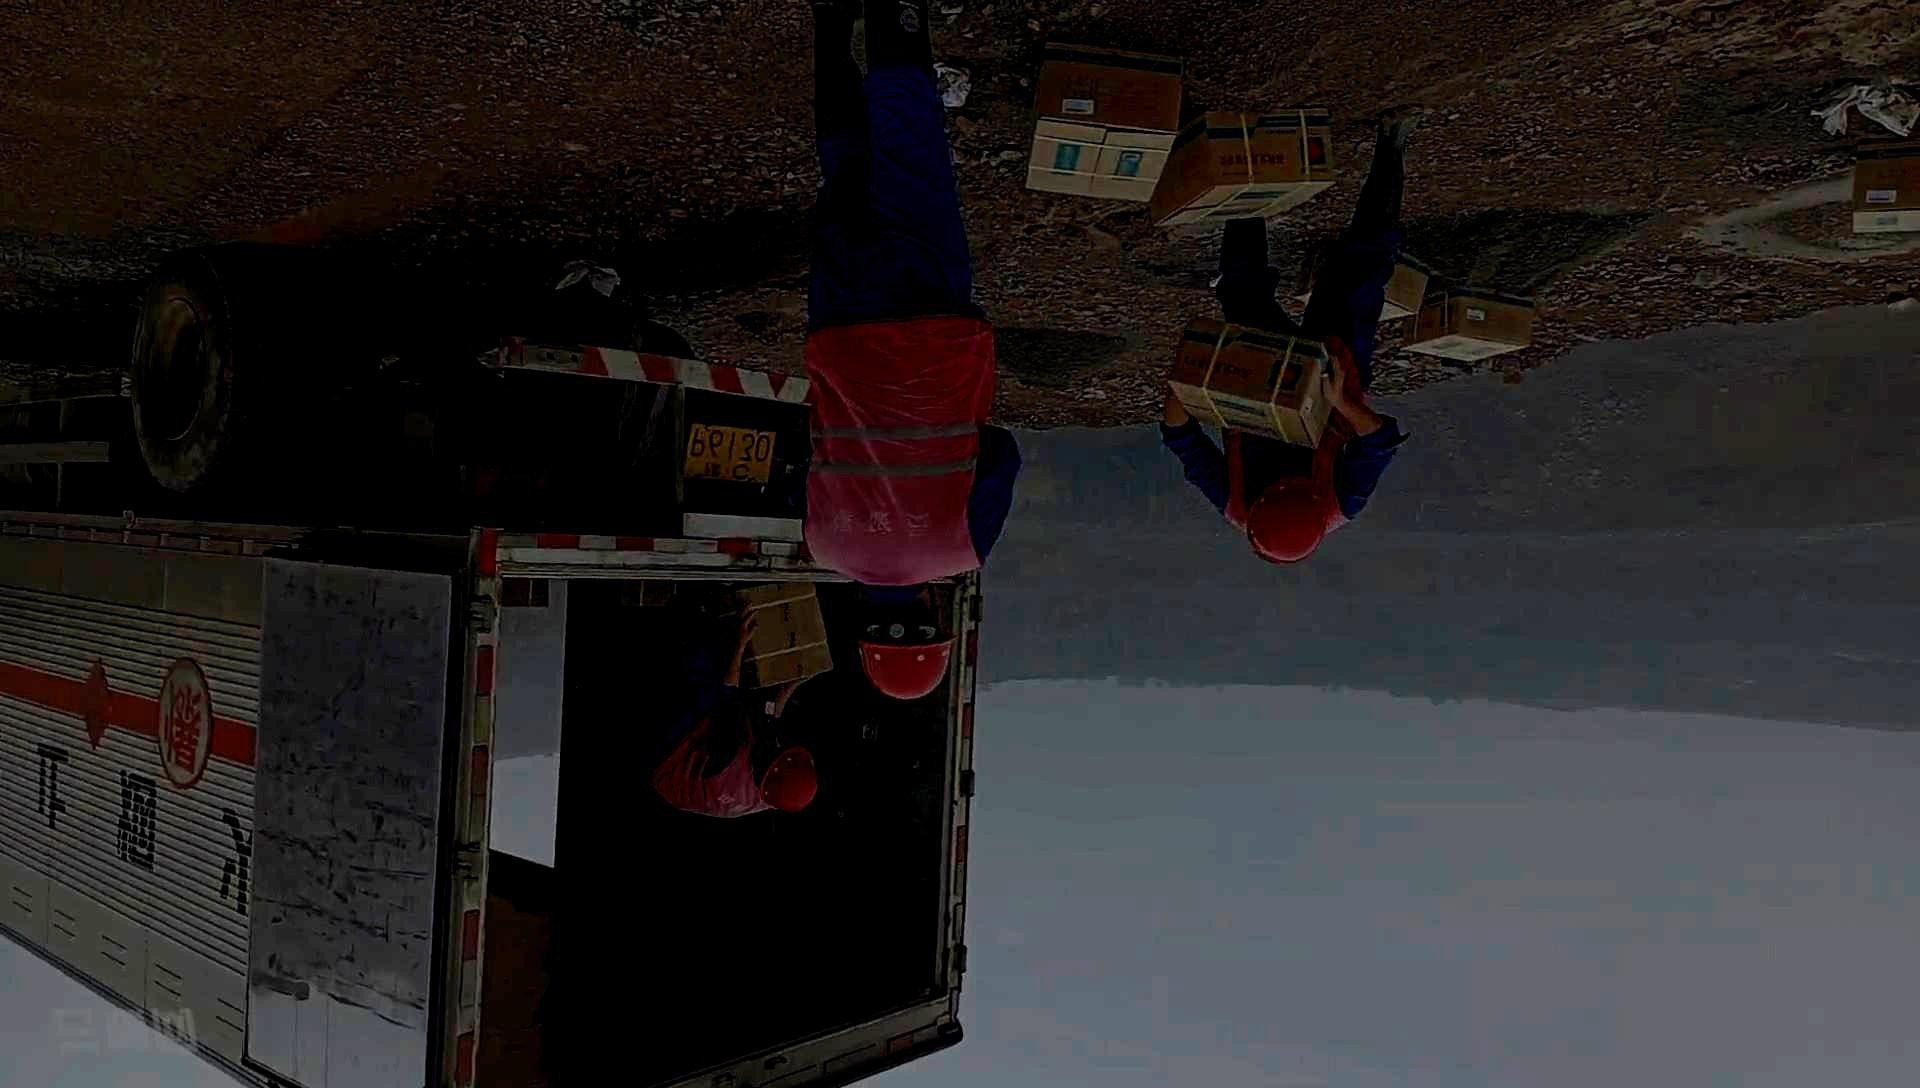helmet: (853, 583, 959, 699), (1244, 473, 1329, 568), (758, 742, 818, 812)
